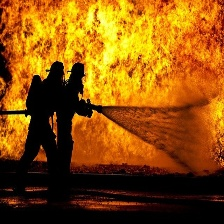fire: (1, 1, 224, 166)
